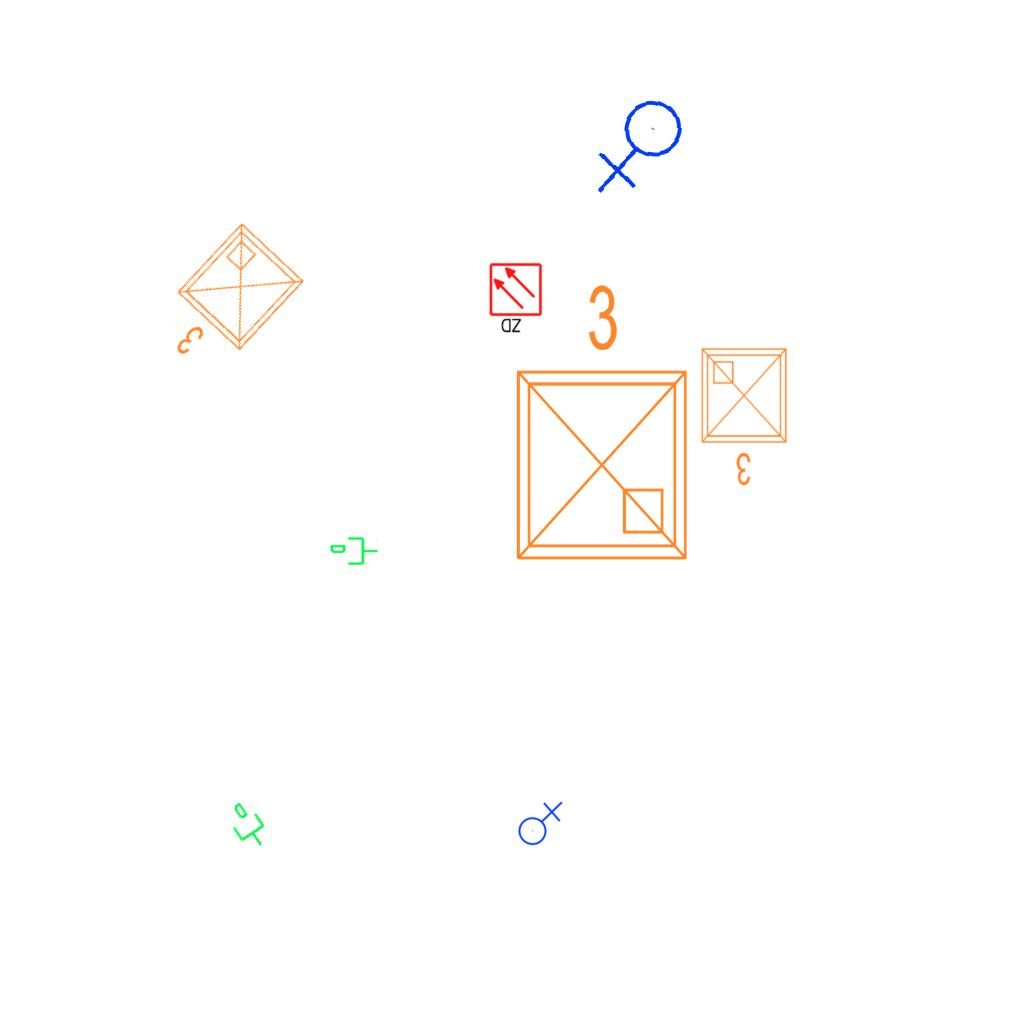Datenanschluss_einfach: (218, 795, 276, 857), (329, 535, 379, 569)
Einbaudownlights_LED_Konferenzraeume: (494, 274, 702, 574), (138, 212, 318, 394), (694, 341, 798, 491)
Elektroanschluss_allgemein_230V_Geraeteanschlussdose_230V: (589, 95, 696, 199), (514, 799, 563, 846)
ZD_Melder_in_Zwischendecke_mit_Revisionsoeffnung_mind_40_x_40_cm: (488, 262, 545, 336)
